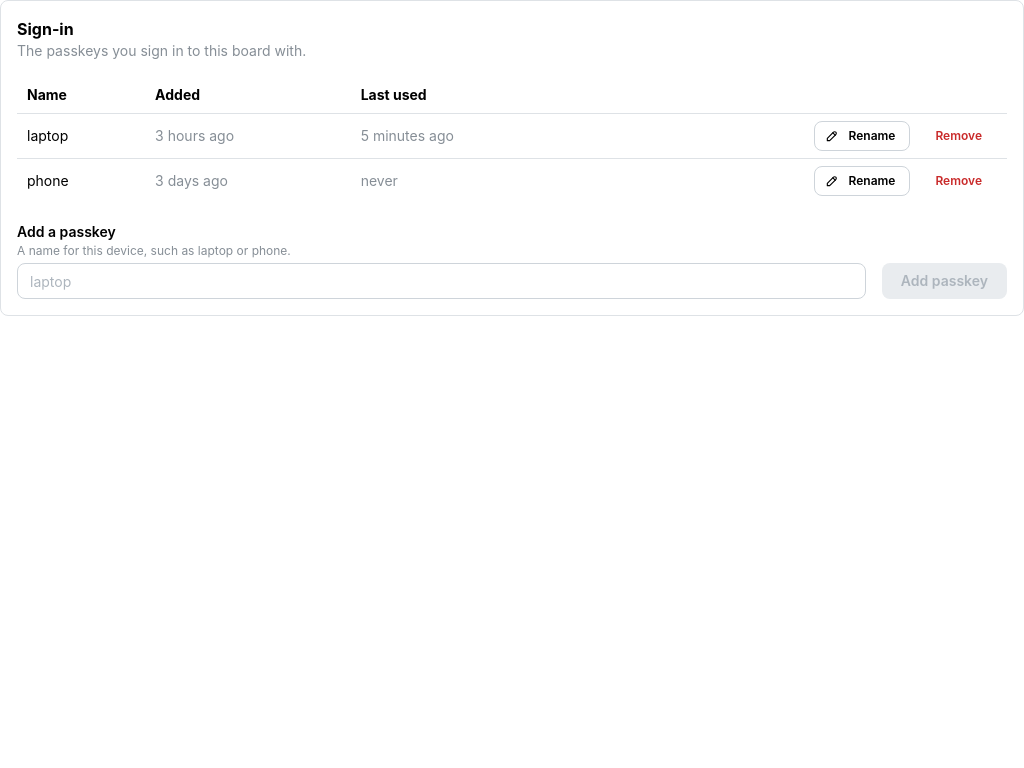
Scenario: the passkeys section › shows why a passkey could not be removed
Click the button "Remove" in the row of "3 days ago" at (959, 181), box [920,166,997,196]
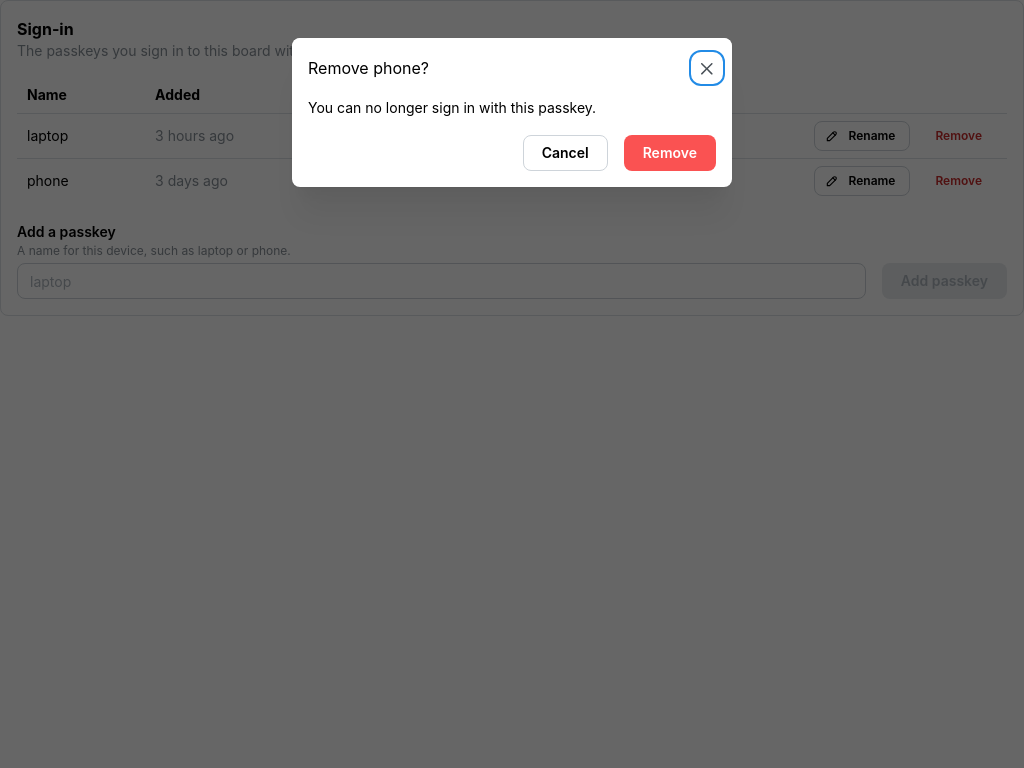
Click the button "Remove" at (670, 153), box [624,135,716,171]
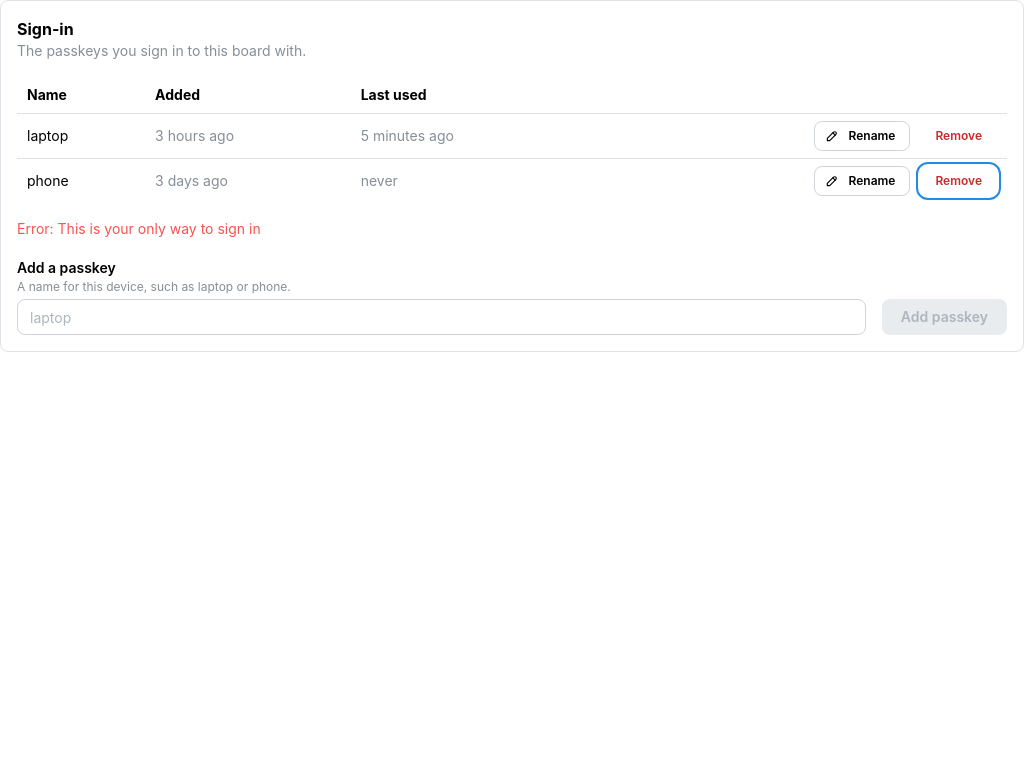
Expected: the text "Error: This is your only way to sign in" is shown, [17,220,261,237]
